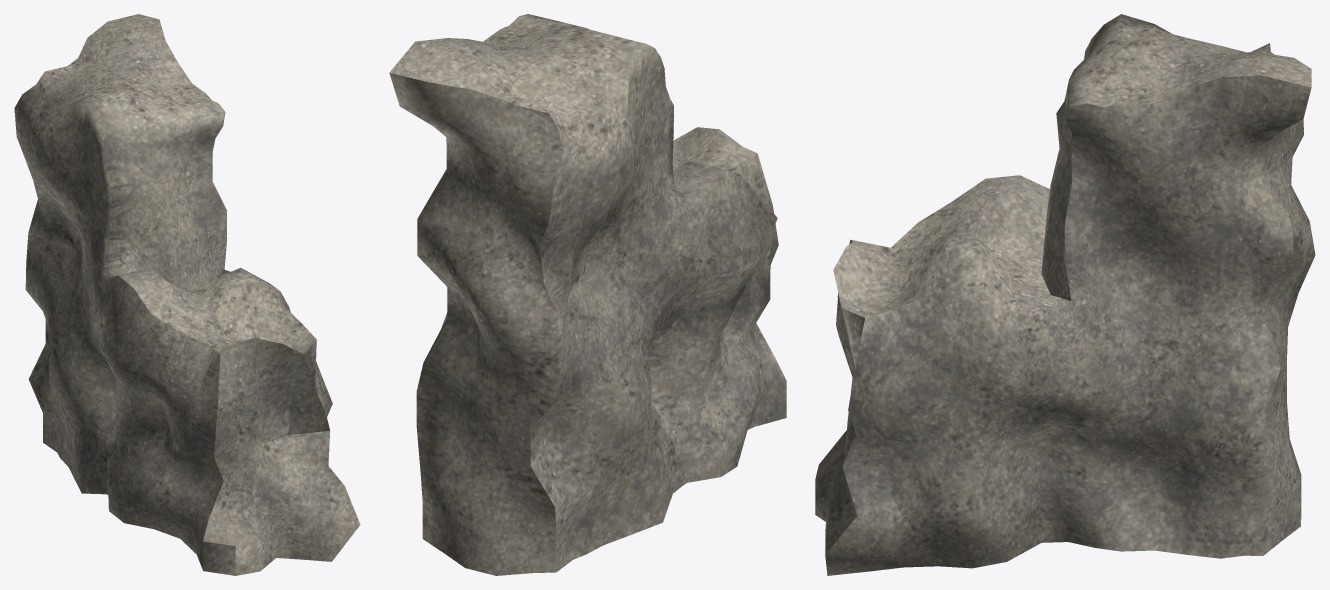
Rendered from felsen_mittel_low_textur.FBX.
The picture shows the model from 3 angles, left to right: view 1: azimuth 30°, elevation 25°; view 2: azimuth 150°, elevation 25°; view 3: azimuth 270°, elevation 25°; orthographic projection. The views are drawn at different scales.
Visible parts, largest first — view 1: Felsen_Mittel; view 2: Felsen_Mittel; view 3: Felsen_Mittel.
Part boxes in pixels (x1,y1,x2,y2): Felsen_Mittel: (14, 14, 360, 575); Felsen_Mittel: (389, 14, 786, 575); Felsen_Mittel: (815, 14, 1315, 575).
Size of the model in its own units: 97.58 by 204 by 183.
1 material, 1 textured.
